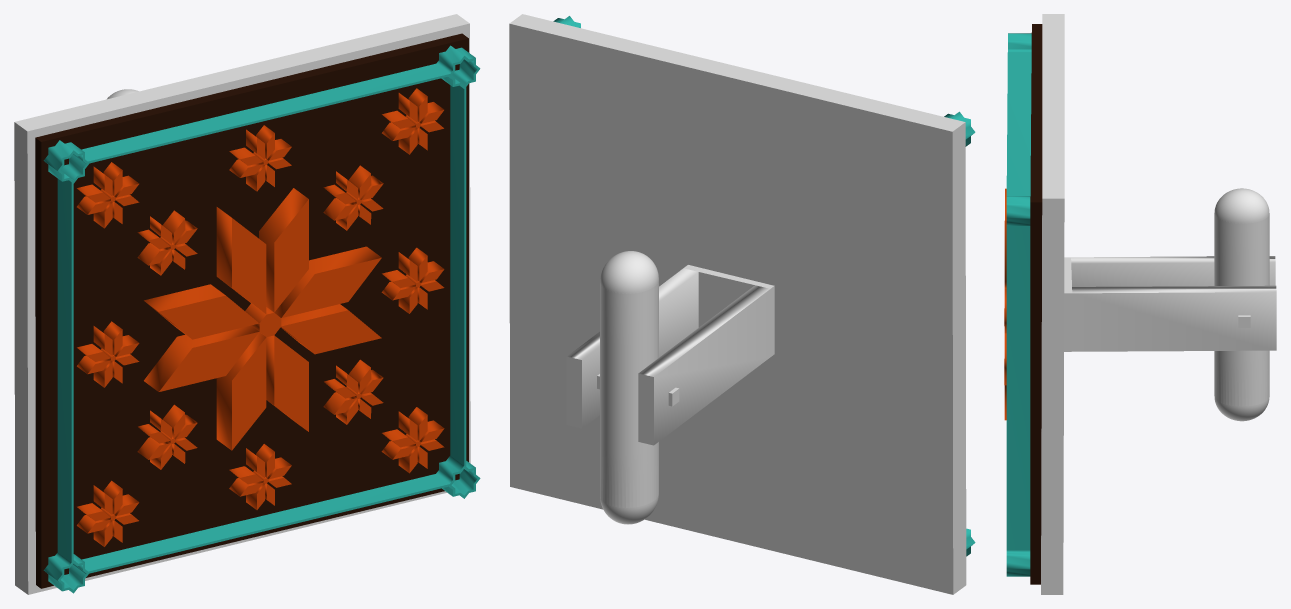
The model's file is cufflinks1.gltf.
3 renders of one model, left to right at view 1: azimuth 30°, elevation 25°; view 2: azimuth 150°, elevation 25°; view 3: azimuth 270°, elevation 25°, orthographic. The views are drawn at different scales.
Visible parts, largest first — view 1: fill, flowers, border, base; view 2: base, capsule, border; view 3: base, border, capsule, fill, flowers.
Boxes of the visible parts, left/top/right/bottom form: fill: left=35, top=33, right=468, bottom=588; flowers: left=77, top=88, right=444, bottom=546; border: left=43, top=45, right=480, bottom=593; base: left=14, top=14, right=470, bottom=594; base: left=509, top=14, right=966, bottom=594; capsule: left=600, top=251, right=658, bottom=524; border: left=553, top=16, right=975, bottom=556; base: left=1041, top=14, right=1276, bottom=594; border: left=1006, top=33, right=1031, bottom=576; capsule: left=1214, top=188, right=1269, bottom=421; fill: left=1030, top=24, right=1042, bottom=584; flowers: left=1004, top=188, right=1006, bottom=420.
Bounding box in the file's own units: 1.42 × 1.42 × 0.885.
